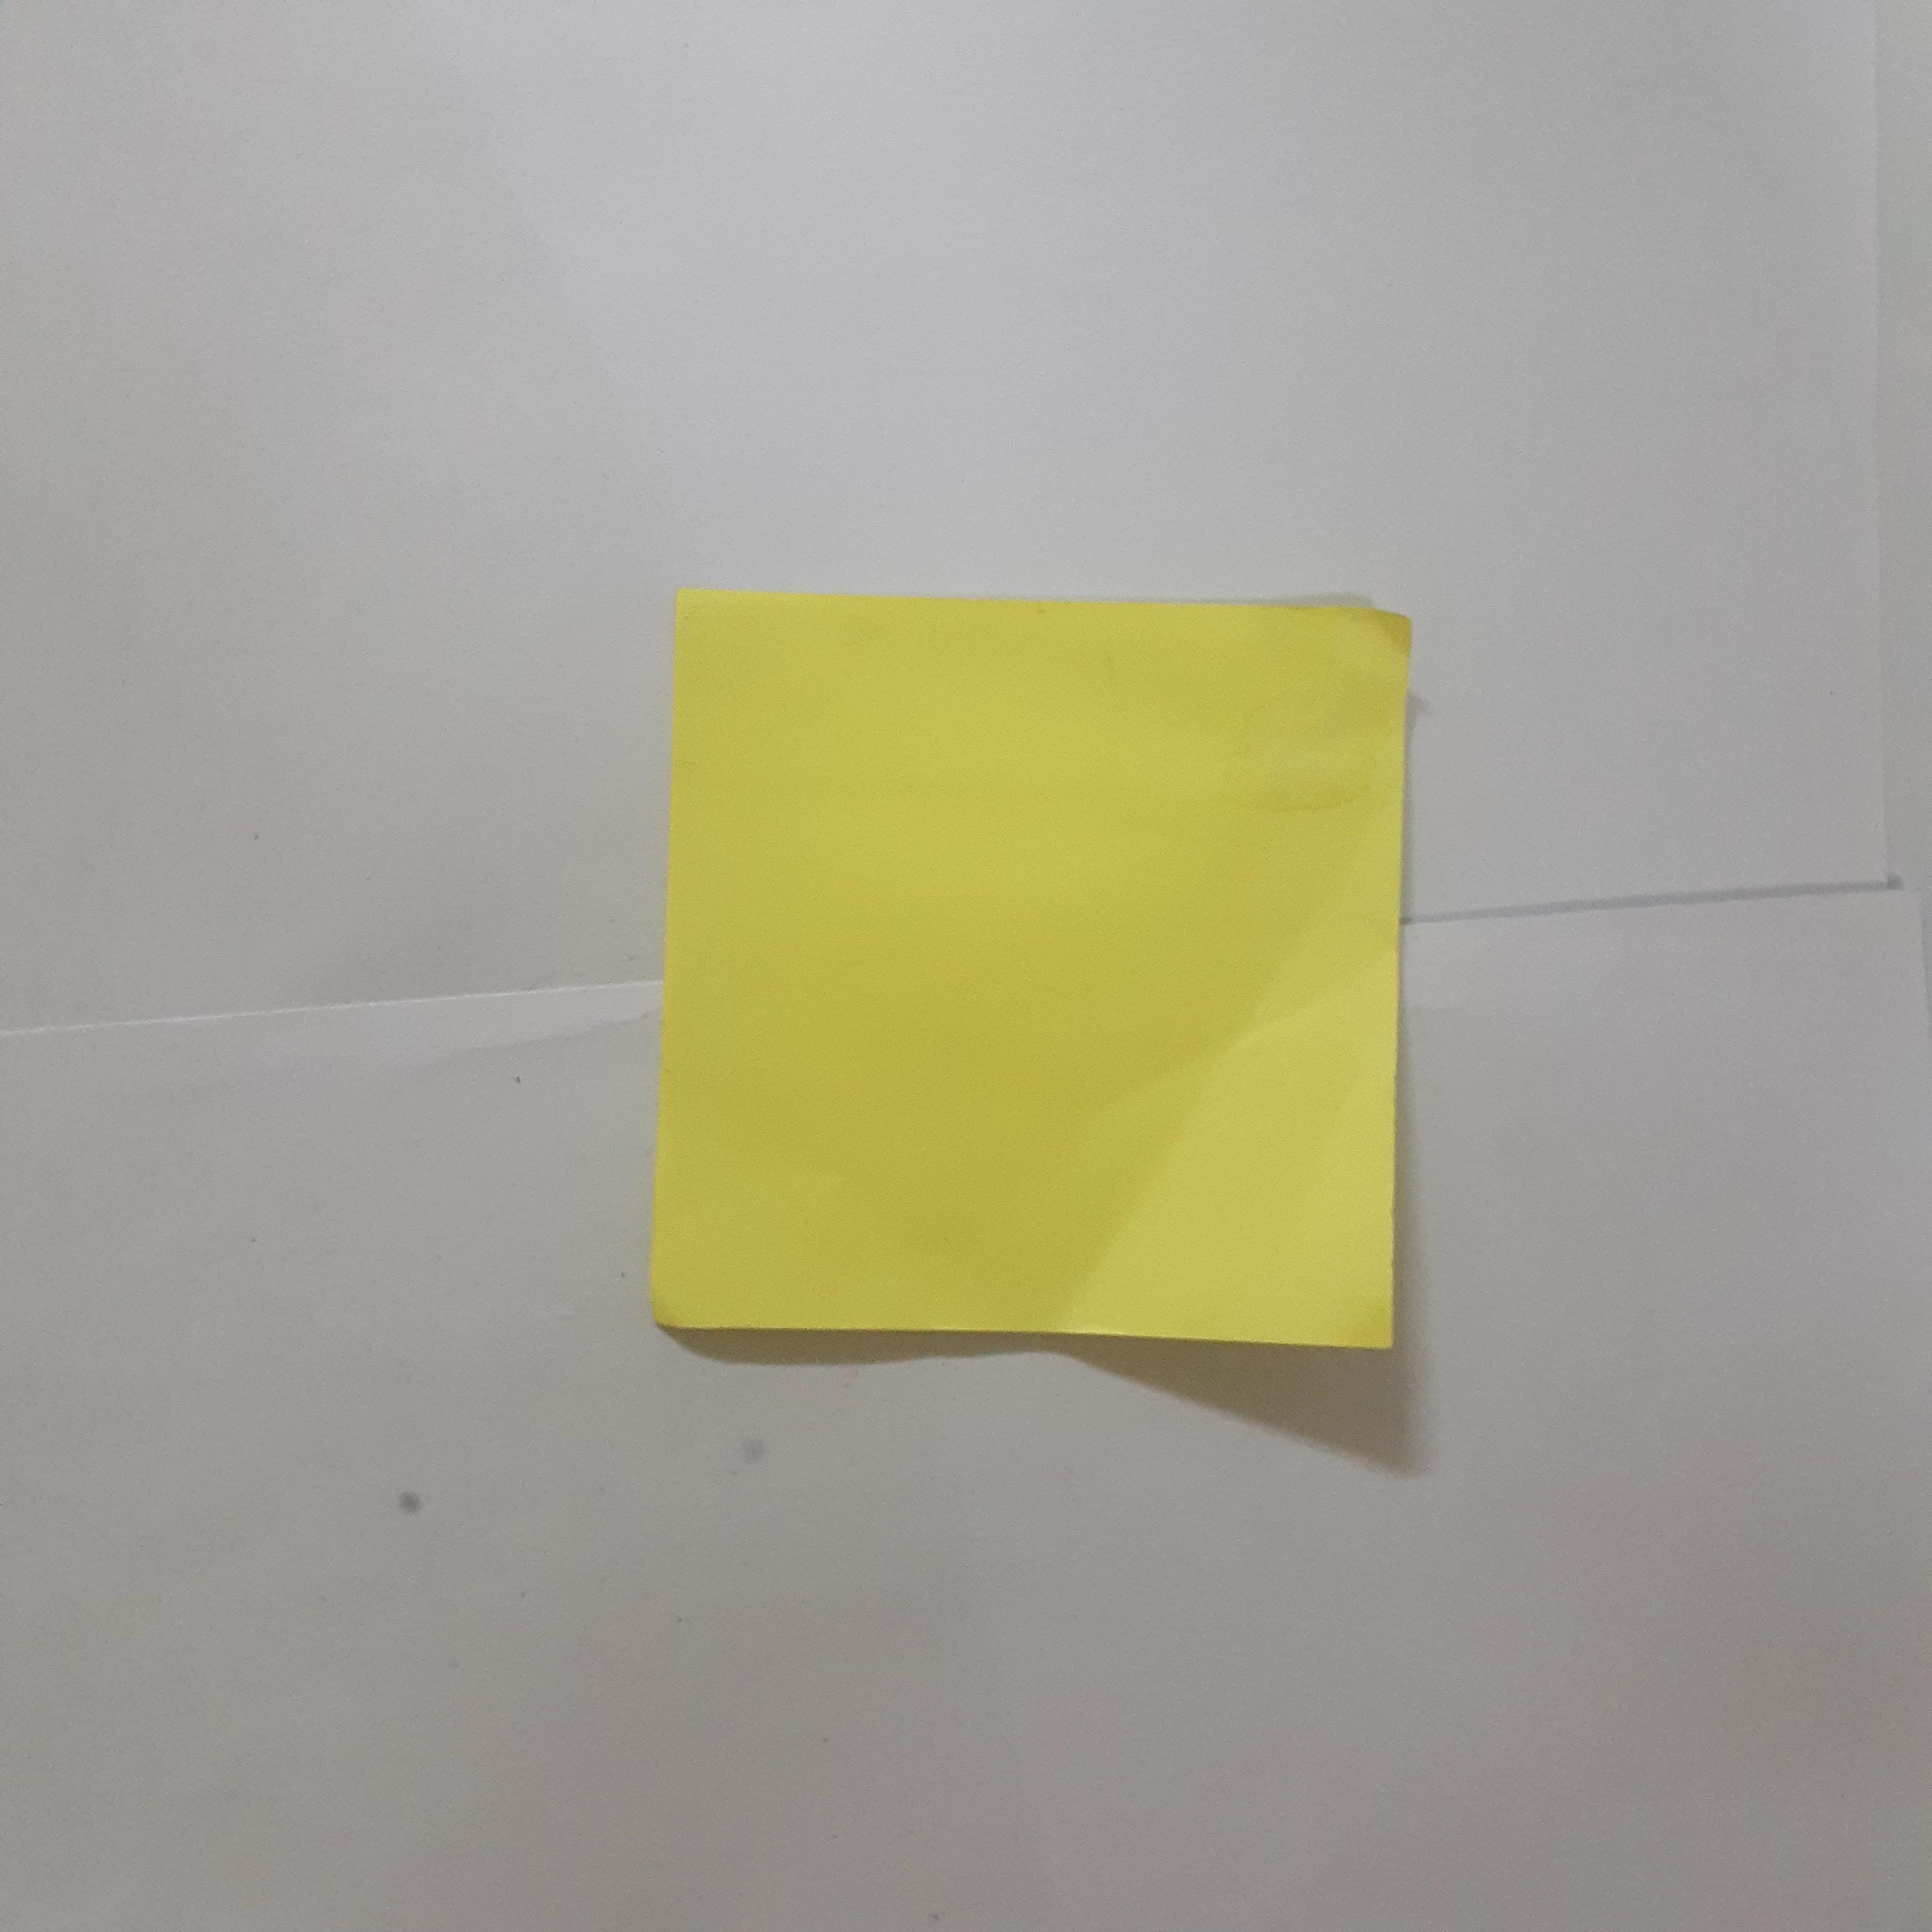Paper: (662, 584, 1410, 1355)
